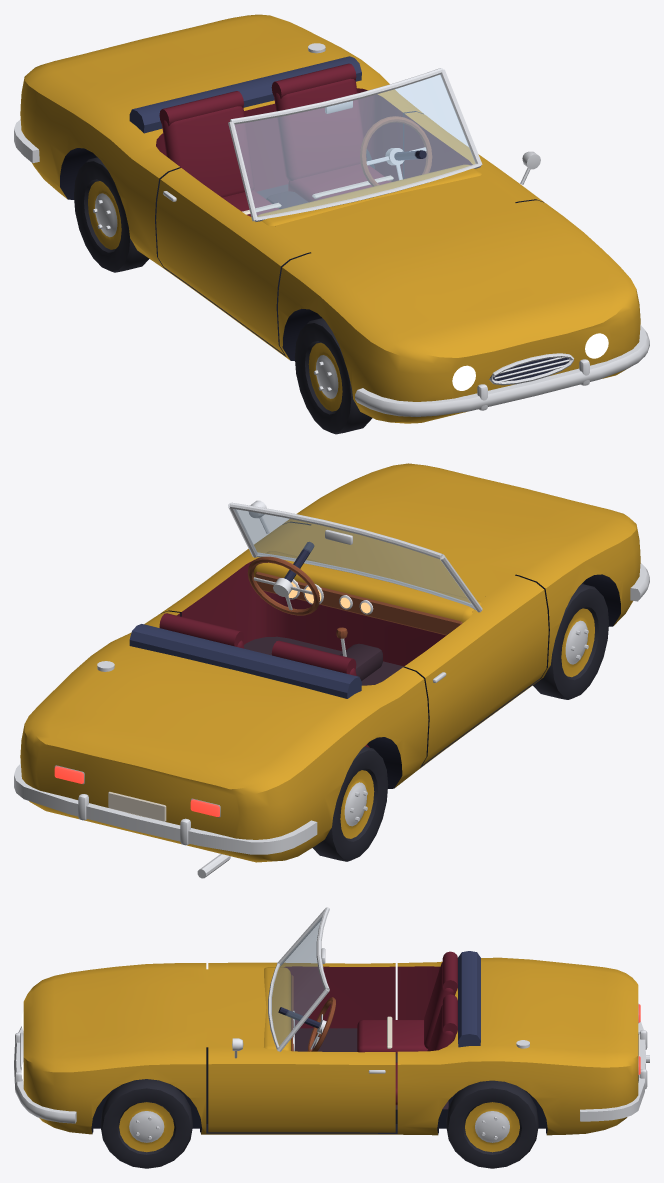
File: hero_car_mustard.glb
The picture shows the model from 3 angles, top to bottom: view 1: azimuth 30°, elevation 25°; view 2: azimuth 150°, elevation 25°; view 3: azimuth 270°, elevation 25°; orthographic projection. The views are drawn at different scales.
Visible parts, largest first — view 1: body, interior, windshield, door_r, wheel_fr, wheel_rr, door_l, windshield_frame, steering_wheel; view 2: body, interior, door_r, windshield, door_l, wheel_fr, wheel_rr, windshield_frame, steering_wheel; view 3: body, door_l, interior, wheel_fl, wheel_rl, door_r, windshield, windshield_frame, steering_wheel.
Boxes of the visible parts, x1,y1,x2,y2 form: body: (14,14,649,423); interior: (129,56,481,225); windshield: (235,74,475,216); door_r: (156,168,310,354); wheel_fr: (294,318,372,434); wheel_rr: (74,157,149,272); door_l: (404,112,544,202); windshield_frame: (228,68,482,221); steering_wheel: (360,116,432,186); body: (14,463,649,878); interior: (129,542,481,747); door_r: (404,575,548,764); windshield: (234,509,474,608); door_l: (160,500,309,649); wheel_fr: (533,584,608,699); wheel_rr: (312,746,388,861); windshield_frame: (228,502,482,612); steering_wheel: (247,556,319,615); body: (14,957,649,1135); door_l: (208,1038,395,1132); interior: (264,951,480,1105); wheel_fl: (100,1079,192,1168); wheel_rl: (446,1080,538,1168); door_r: (208,962,395,1031); windshield: (271,917,324,1045); windshield_frame: (268,907,329,1051); steering_wheel: (307,997,335,1051).
Bounding box in the file's own units: 1.69 × 1.25 × 4.14.
5 materials, 5 textured.
